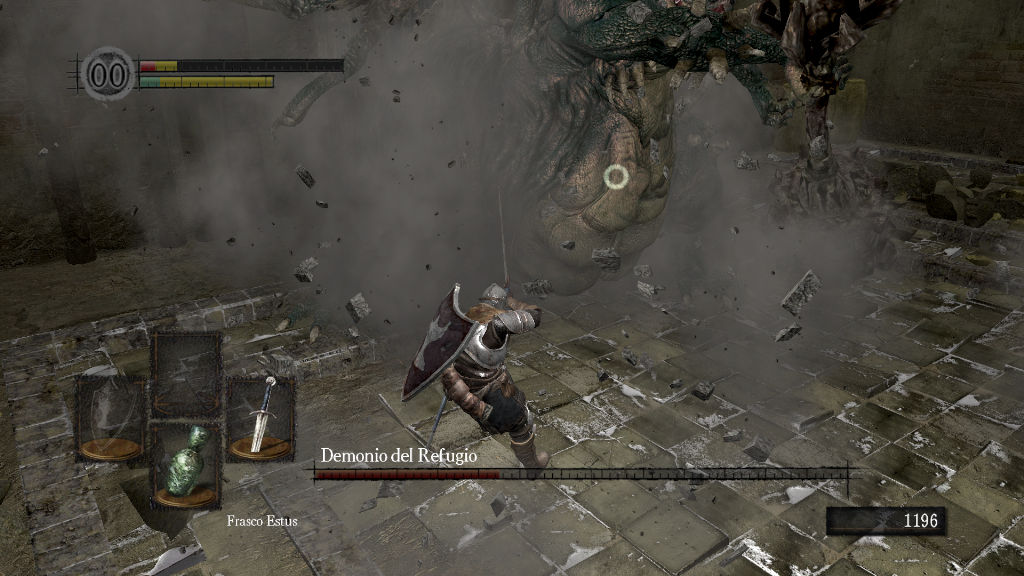asylumDemon: (276, 1, 874, 315)
bossHP: (314, 469, 847, 479)
health: (138, 58, 343, 71)
humanity: (80, 45, 136, 102)
player: (397, 277, 554, 481)
souls: (825, 506, 945, 536)
stamina: (138, 74, 274, 88)
